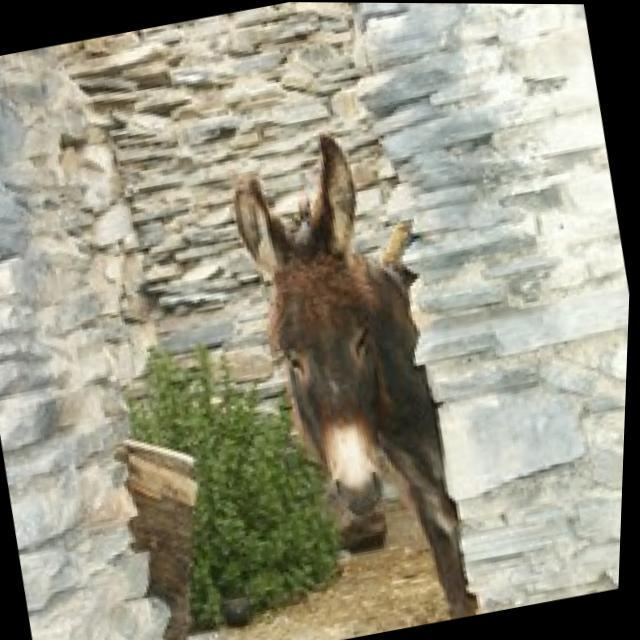Donkey: (212, 113, 503, 640)
